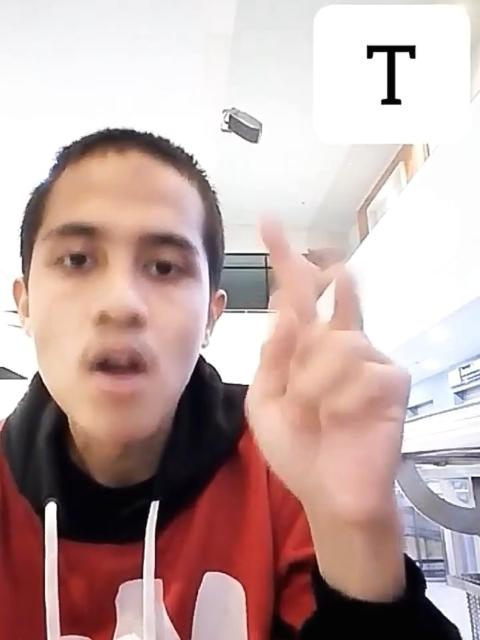U: (235, 205, 415, 511)
